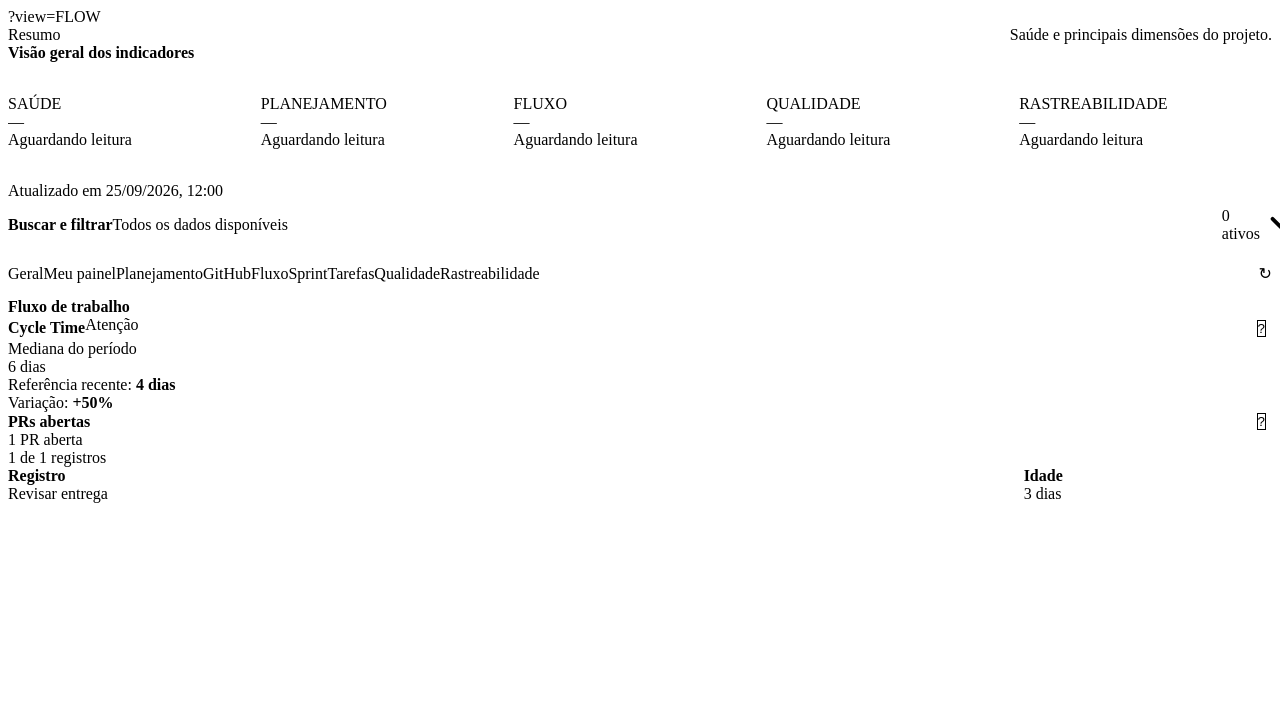
Test: P8 Dashboard na Visão Geral › P8.5 displays backend references and entity tables without technical metadata
expect the element "Cycle Time" shows "6 dias": met, box [8,358,46,375]
expect the element "Cycle Time" shows "Referência recente: 4 dias": met, box [8,316,1272,412]
Step 1. Click the button named "Informações" → (1261, 328), box [1251,319,1272,338]
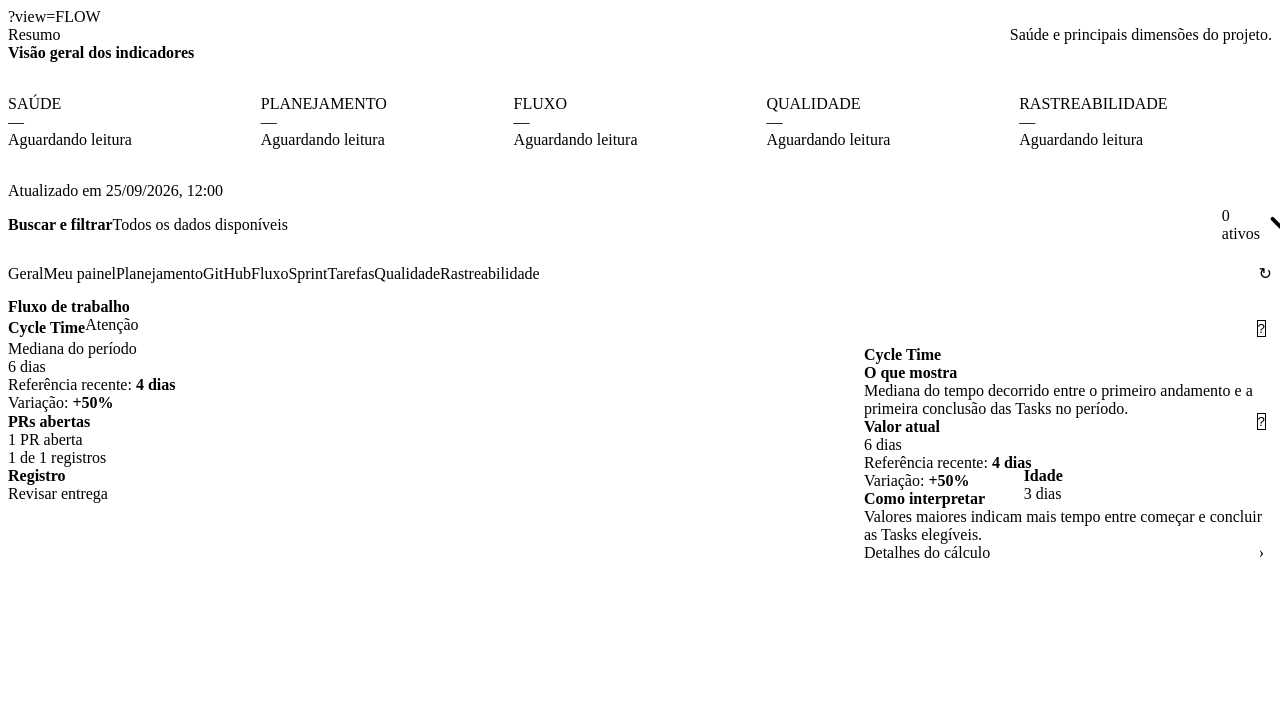
expect the dialog shows "Valor atual": met, box [864,418,940,435]
expect the dialog shows "Referência recente": met, box [864,454,984,471]
